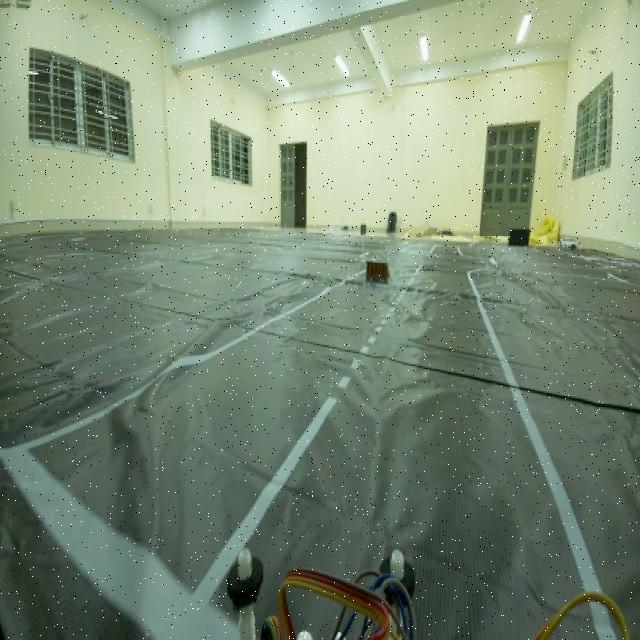roadblock: (364, 256, 392, 291)
